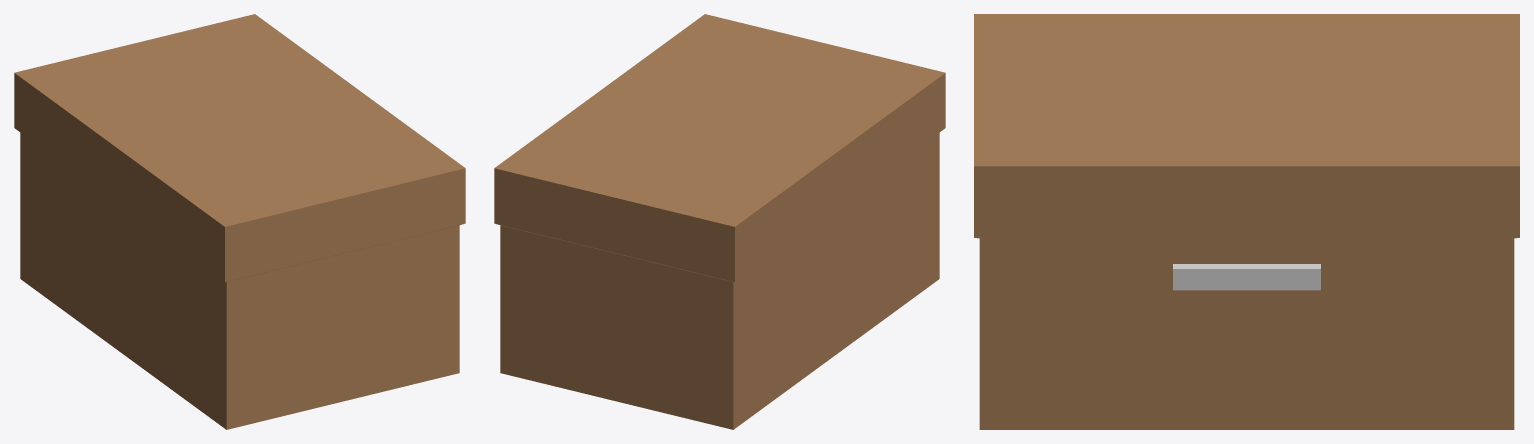
3 renders of one model, left to right at view 1: azimuth 30°, elevation 25°; view 2: azimuth 150°, elevation 25°; view 3: azimuth 270°, elevation 25°, orthographic. The views are drawn at different scales.
Visible parts, largest first — view 1: SM_Box_02; view 2: SM_Box_02; view 3: SM_Box_02.
Part boxes in pixels (x1,y1,x2,y2): SM_Box_02: [14, 14, 465, 429]; SM_Box_02: [494, 14, 945, 429]; SM_Box_02: [974, 14, 1519, 429].
Size of the model in its own units: 0.2219 by 0.1778 by 0.3304.
1 material, 1 textured.
